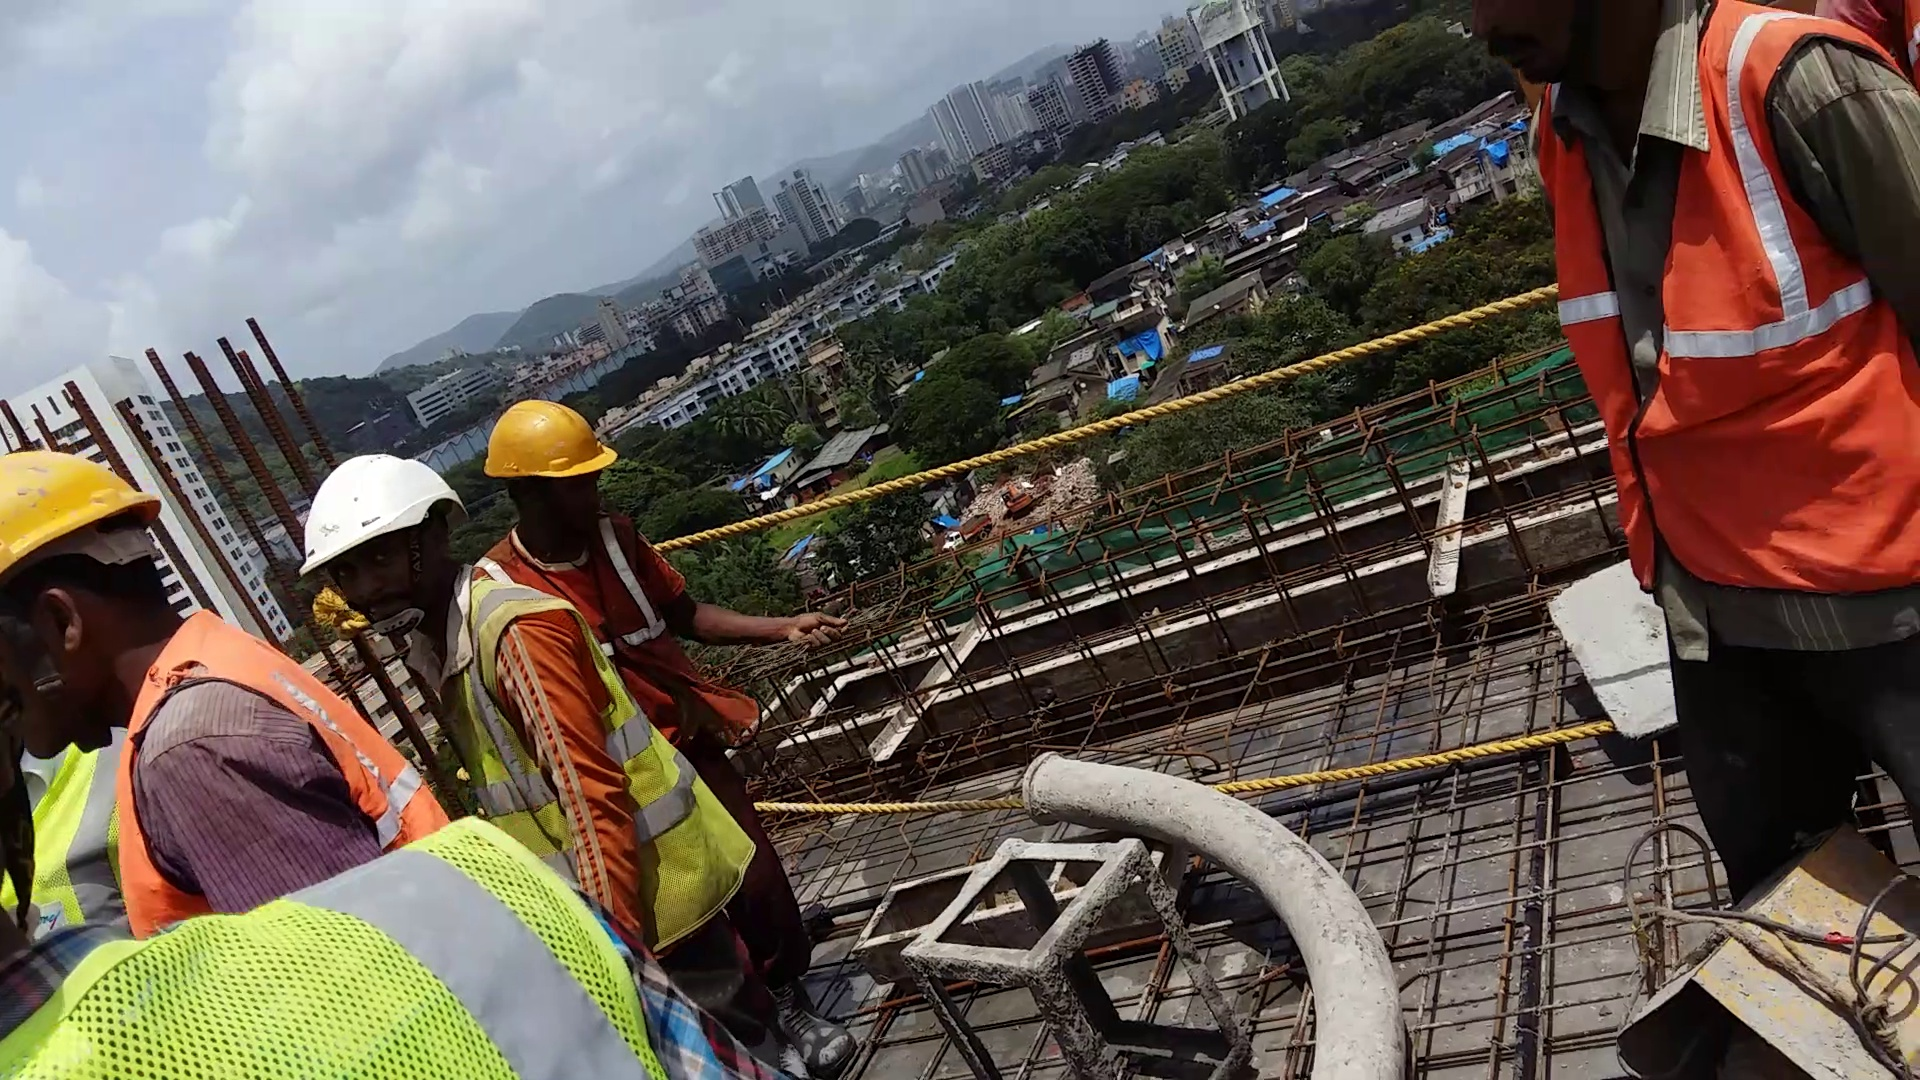NoHardhat: (1526, 1, 1917, 609)
SAFE: (3, 446, 444, 920), (493, 393, 749, 765)
